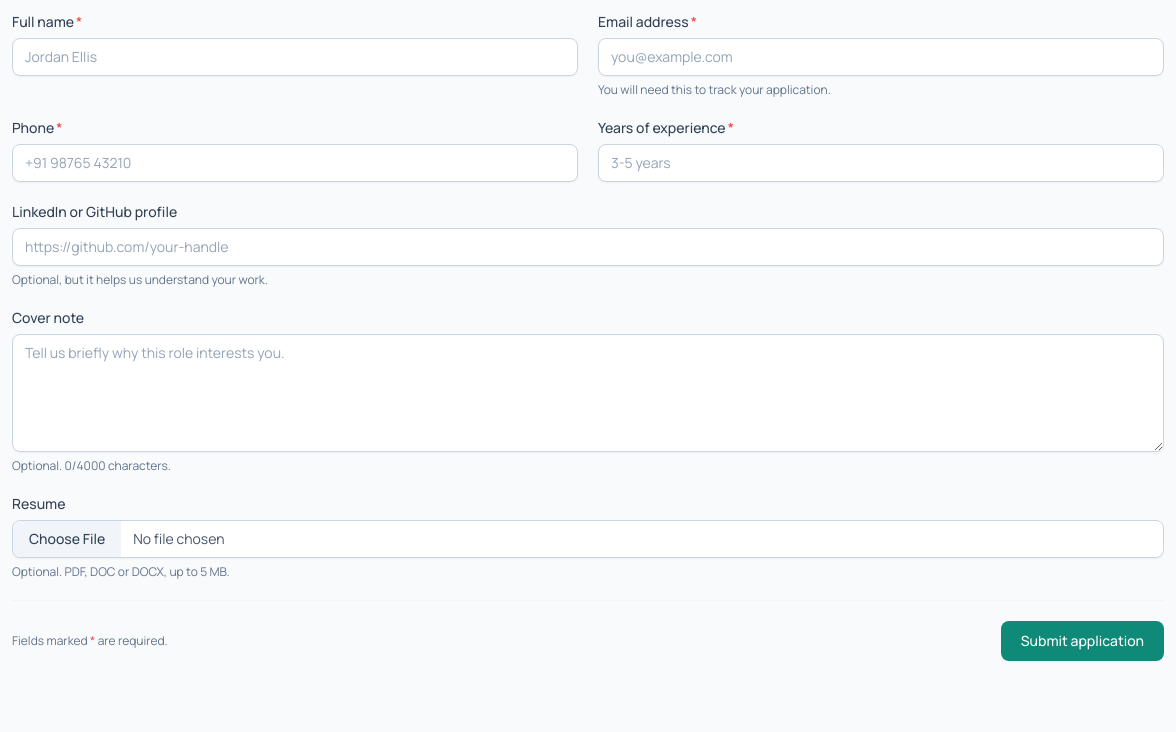
Test: ApplicationForm › blocks submission and shows field errors when the form is empty
The width and height of the screenshot is (1176, 732).
Click the button "Submit application".
click(1082, 641)  # box [1001,621,1164,661]
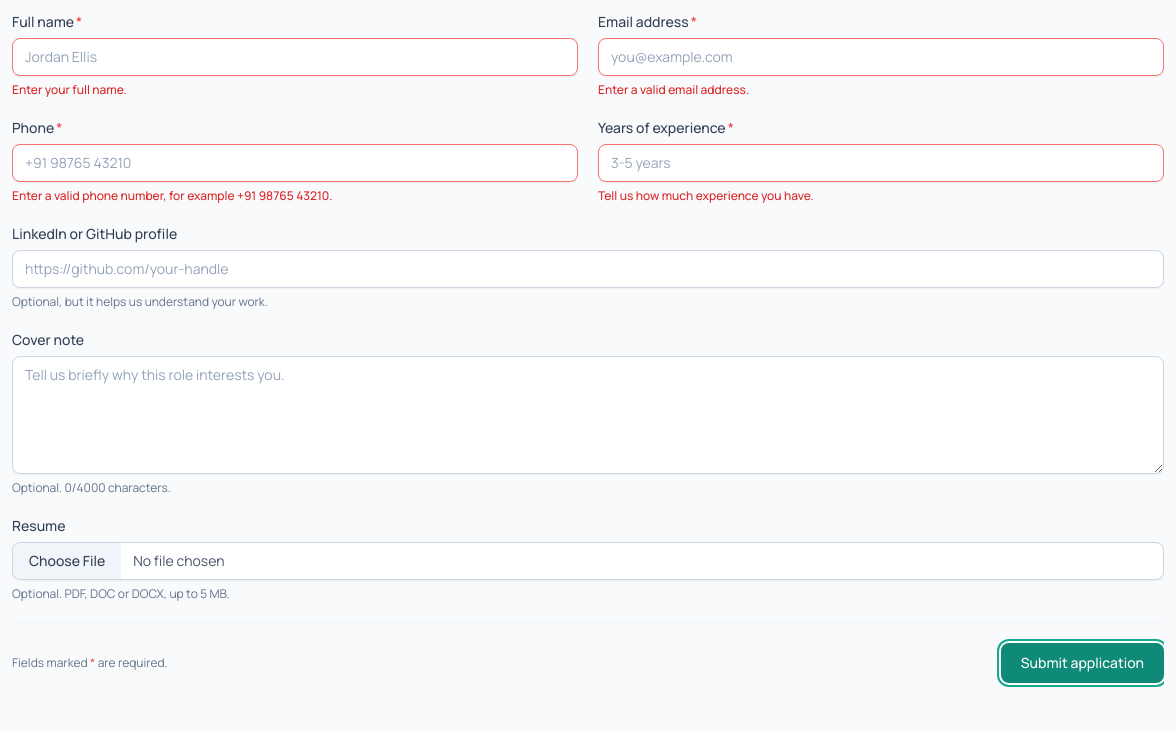
expect the text "Enter your full name." is shown: met, box [12,81,127,98]
expect the text "Enter a valid email address." is shown: met, box [598,81,749,98]
